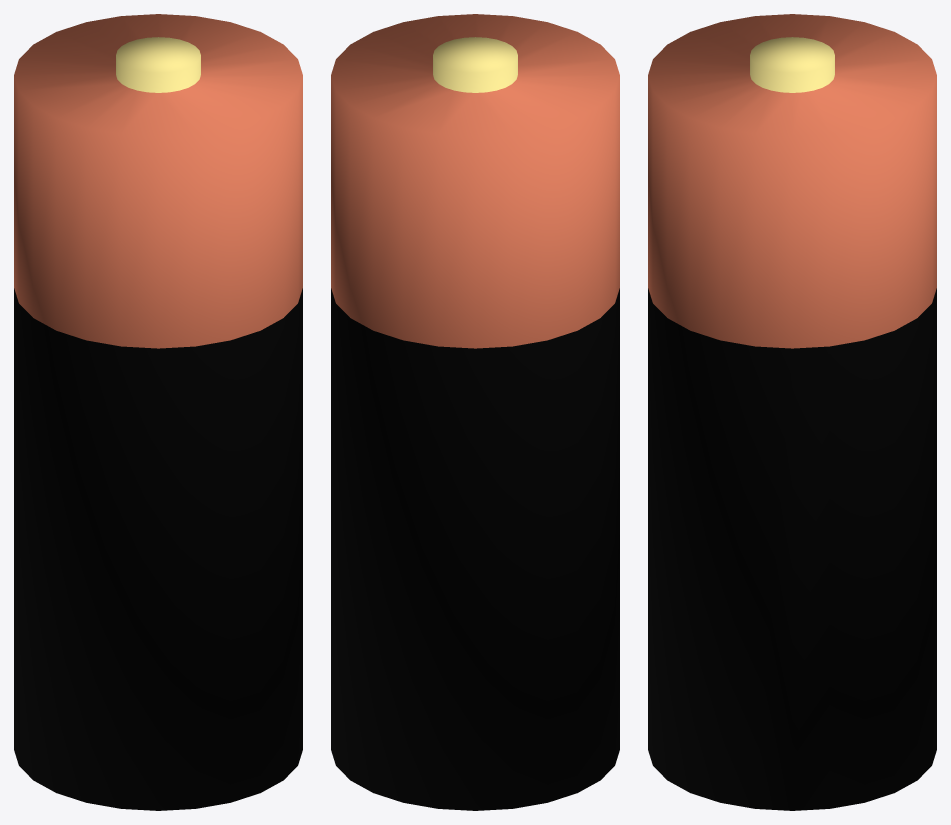
Rendered from pilha3.obj.
3 renders of one model, left to right at view 1: azimuth 30°, elevation 25°; view 2: azimuth 150°, elevation 25°; view 3: azimuth 270°, elevation 25°, orthographic.
Parts seen in each view (by area): view 1: Cylinder.005_Cylinder.014; view 2: Cylinder.005_Cylinder.014; view 3: Cylinder.005_Cylinder.014.
Part boxes in pixels (x1,y1,x2,y2): Cylinder.005_Cylinder.014: (14,14,302,810); Cylinder.005_Cylinder.014: (331,14,619,810); Cylinder.005_Cylinder.014: (648,14,936,810).
Bounding box in the file's own units: 0.441 × 1.17 × 0.4401.
1 material, 1 textured.
